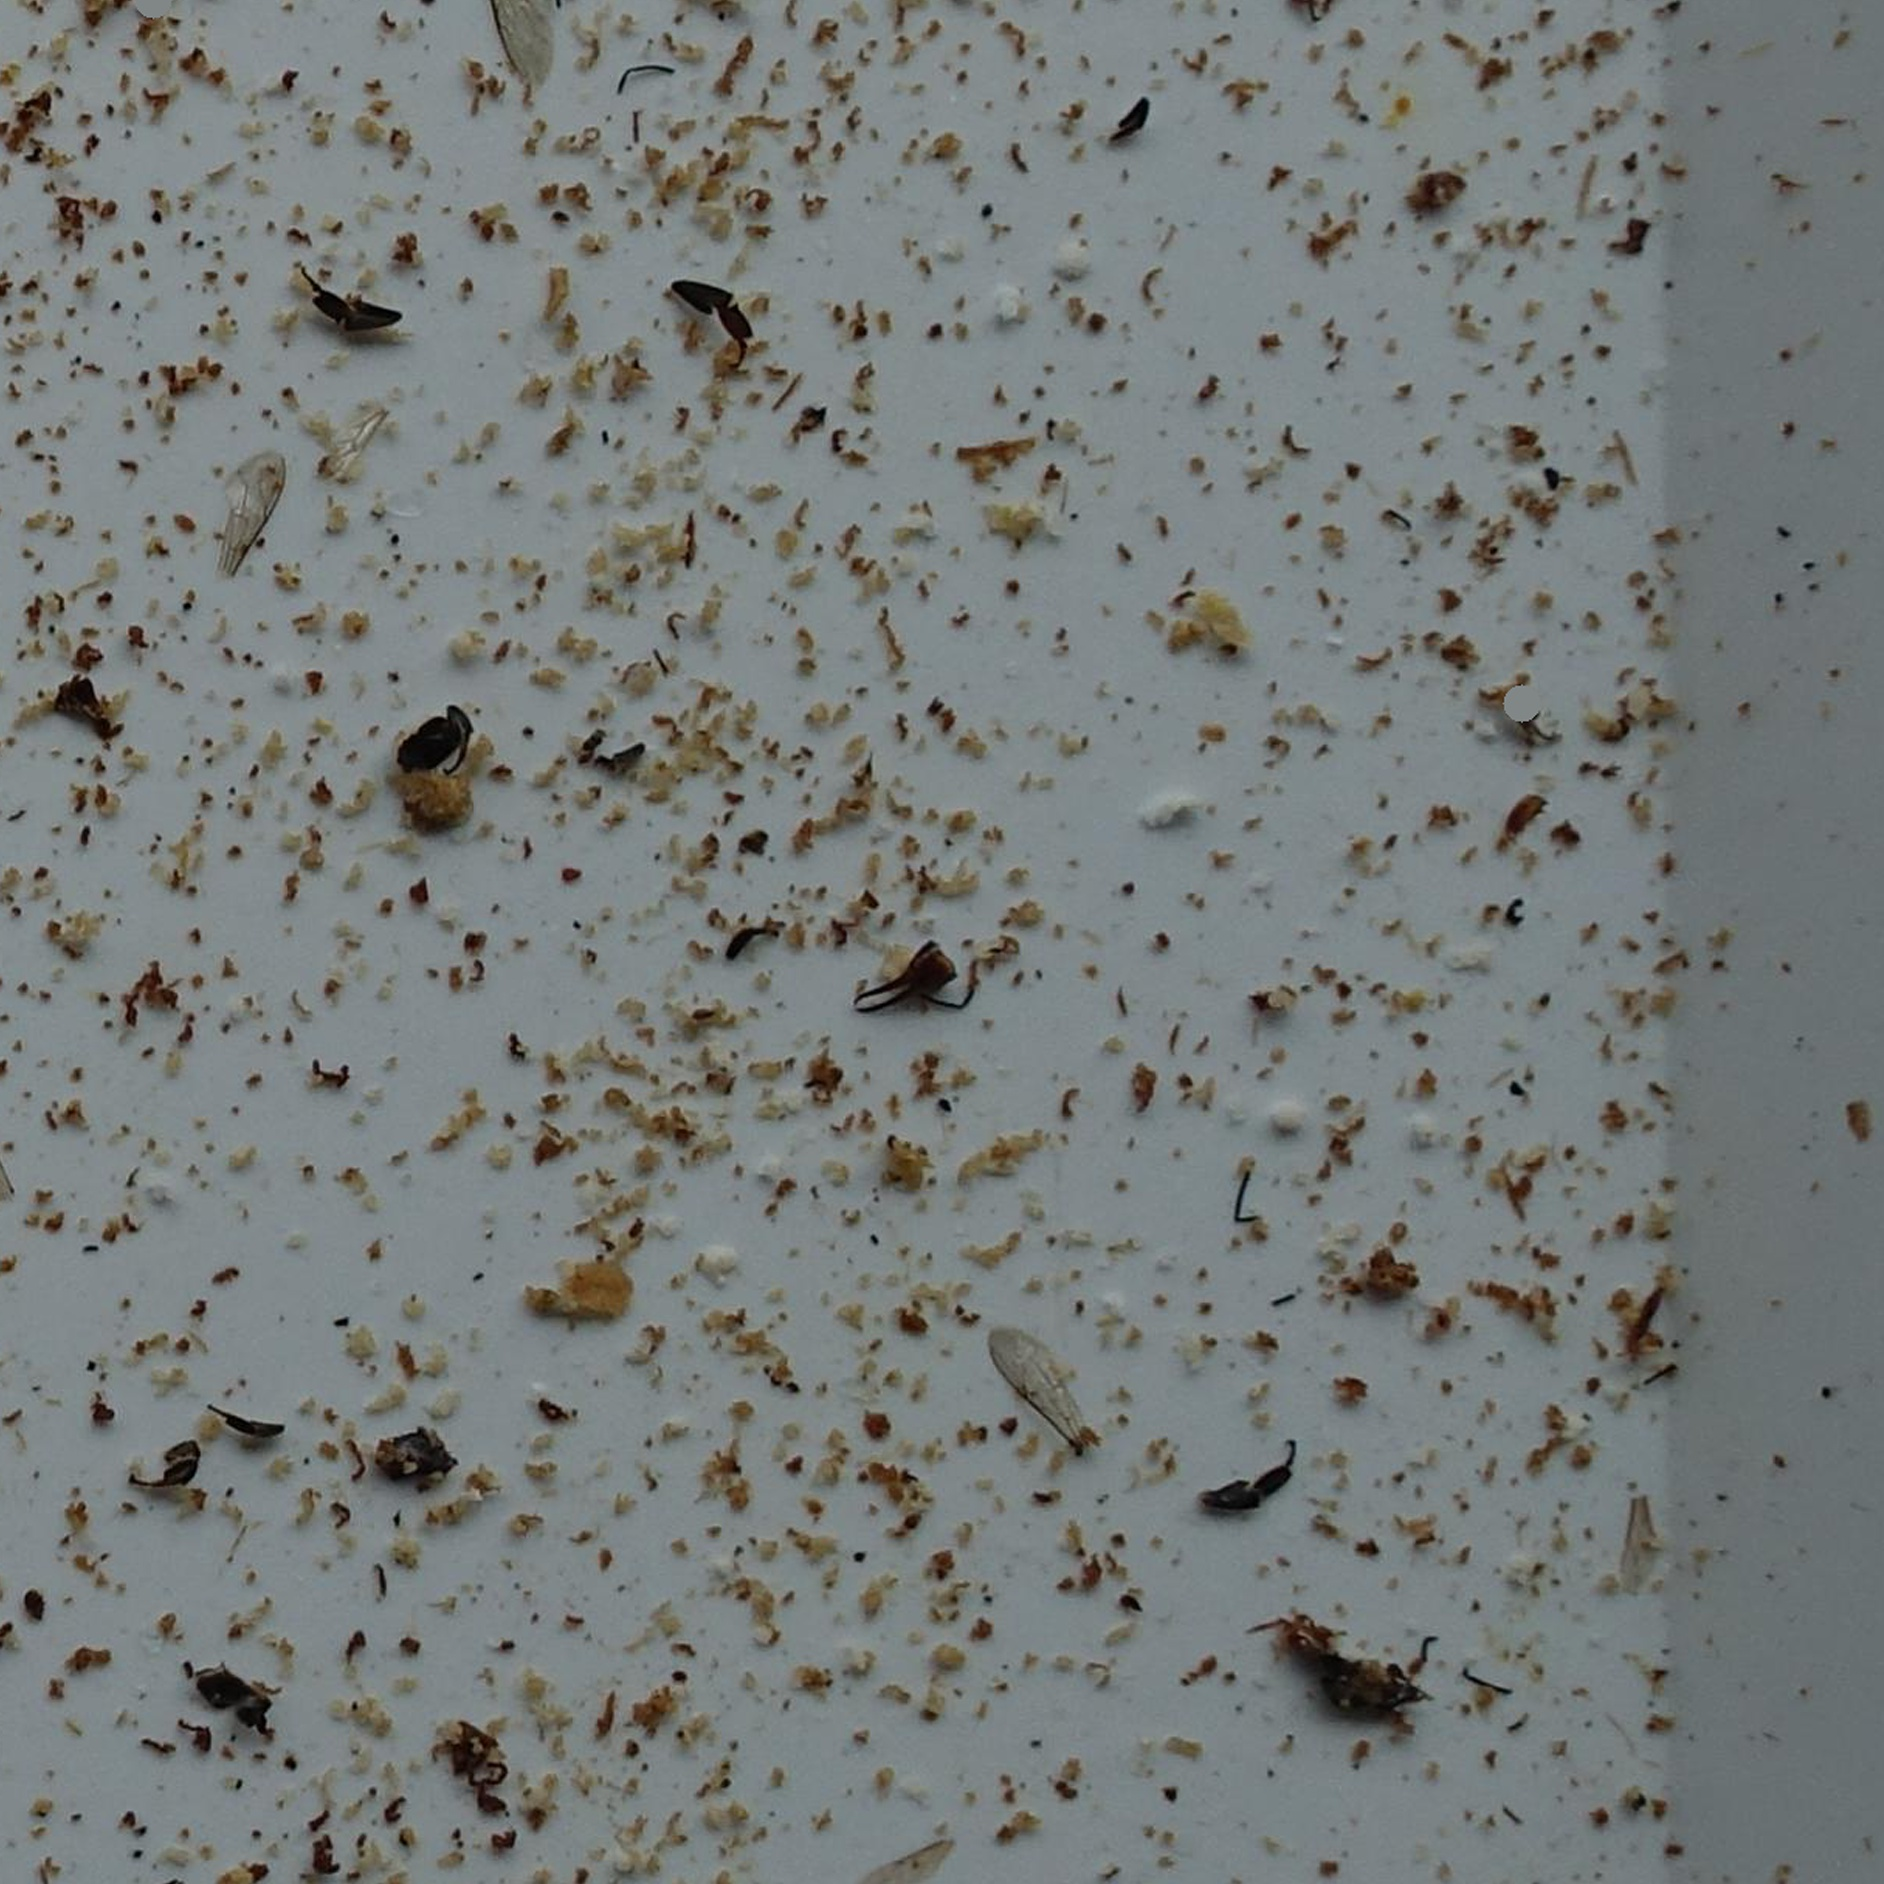Varroa: (21, 1589, 48, 1617)
